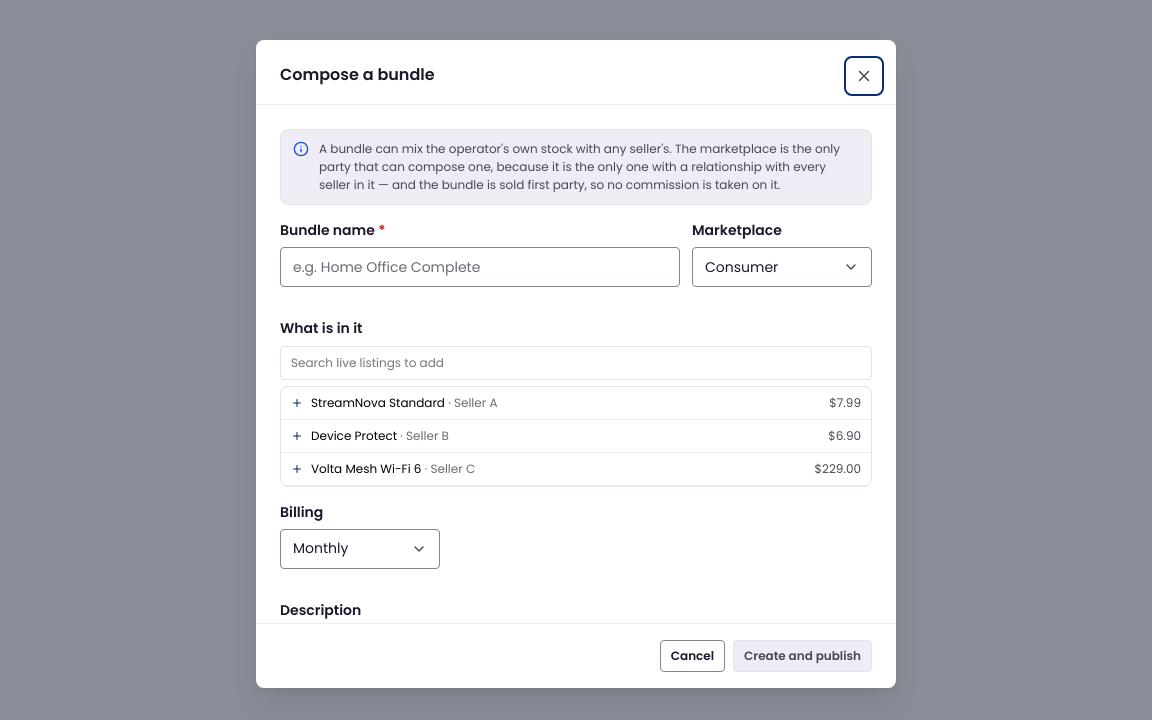
it: Compose a bundle, priced line by line › starts each line at its normal price and adds the lines up into the bundle price
Later steps or results of the test are not shown.
Click the button "StreamNova Standard · Seller A $7.99" at (378, 402), box [281, 387, 871, 420]
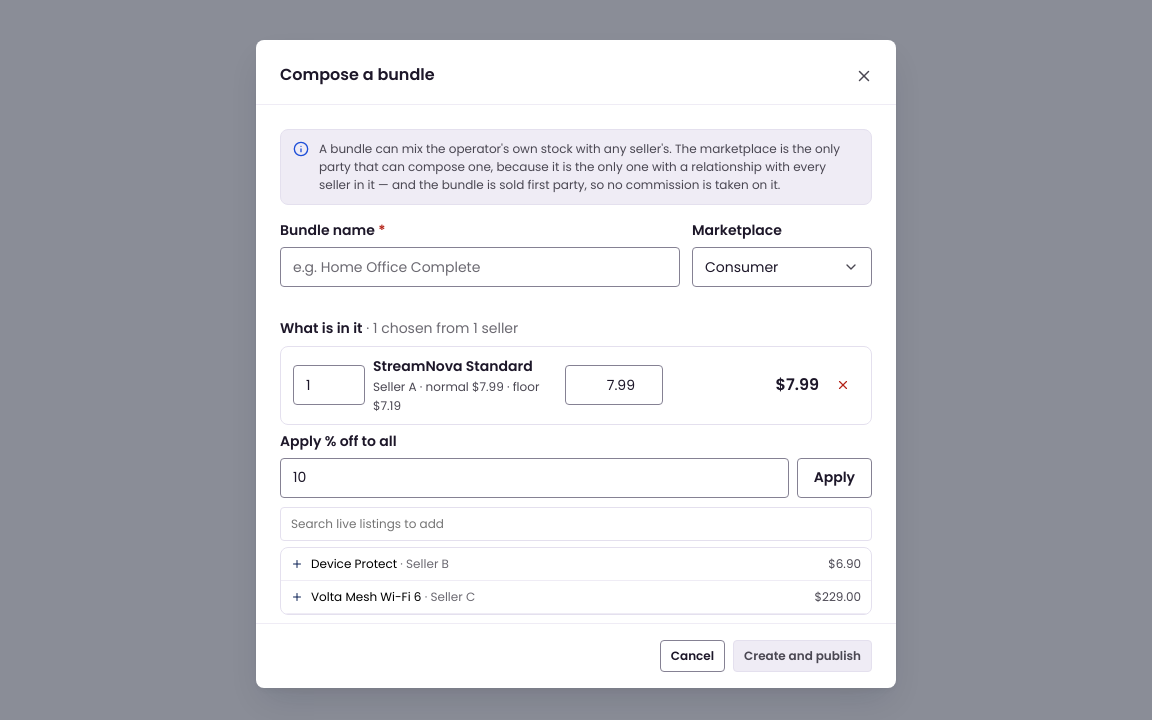
Click the button "Volta Mesh Wi-Fi 6 · Seller C $229.00" at (366, 596), box [281, 581, 871, 614]
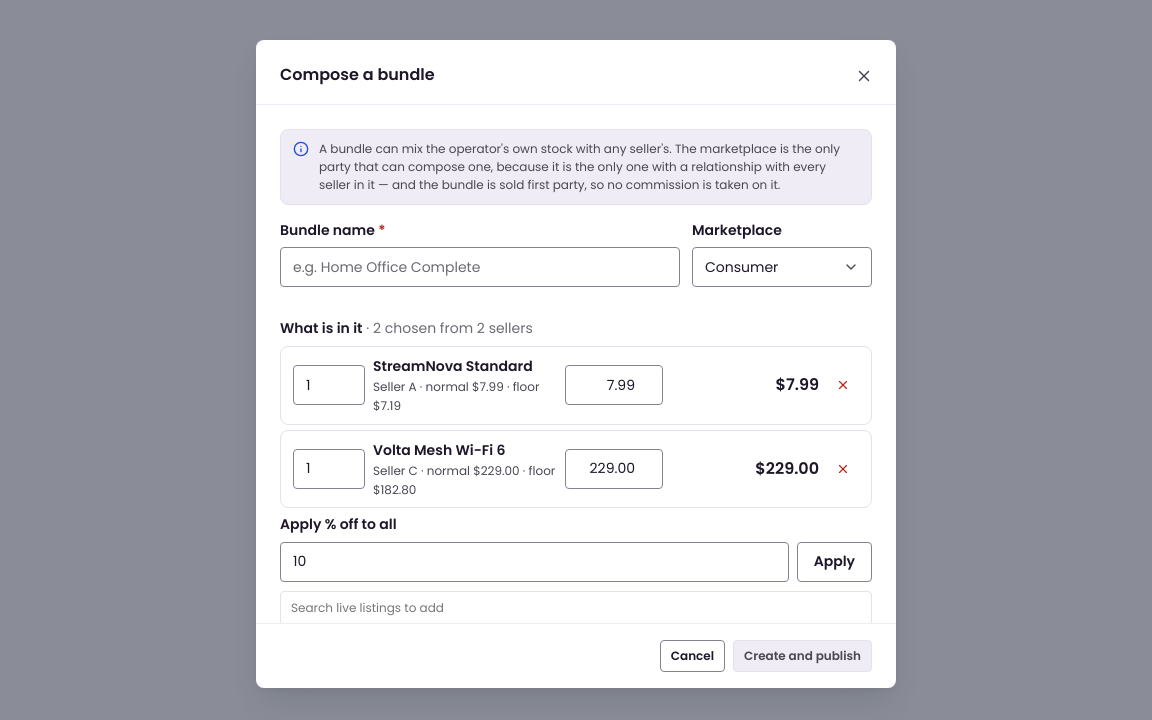
Check: the number field named "Price in bundle for StreamNova Standard" holds "7.99", box [565, 365, 663, 405]
